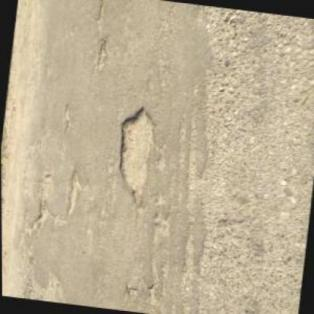Hueco: (109, 102, 159, 206), (29, 196, 50, 236), (65, 167, 78, 222)
